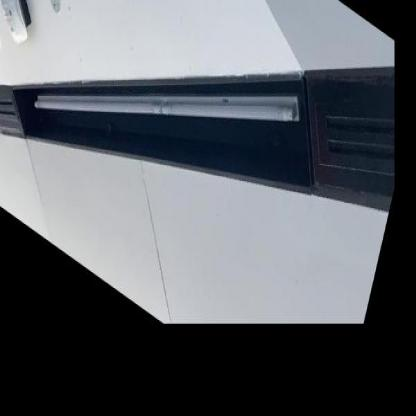light_off: (23, 0, 311, 291)
